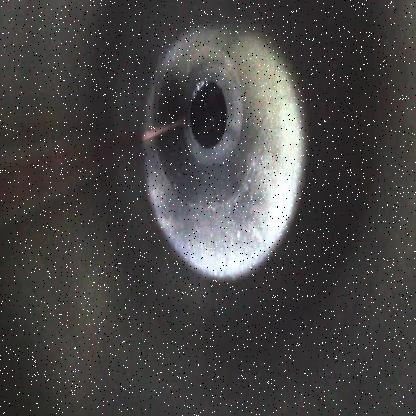NoCrack: (142, 25, 307, 282)
